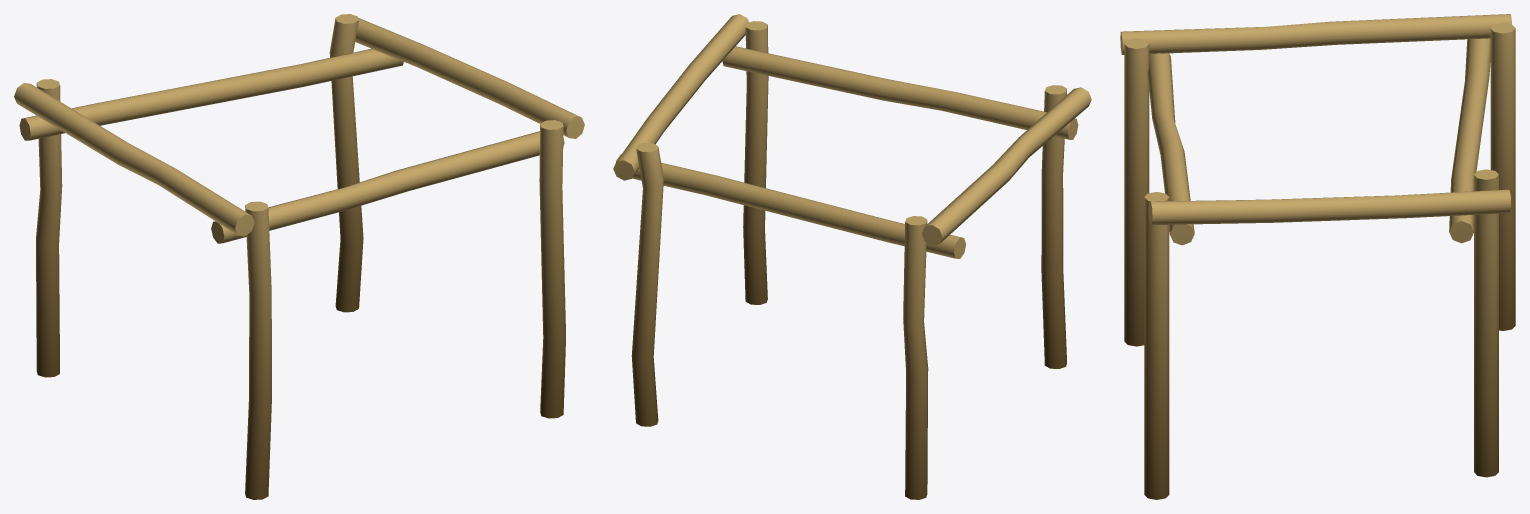
3 views of the same model, side by side, from view 1: azimuth 30°, elevation 25°; view 2: azimuth 150°, elevation 25°; view 3: azimuth 270°, elevation 25° (orthographic). The views are drawn at different scales.
Visible parts, largest first — view 1: Cylinder.007; view 2: Cylinder.007; view 3: Cylinder.007.
Boxes of the visible parts, x1,y1,x2,y2 form: Cylinder.007: (14,14,584,499); Cylinder.007: (613,14,1091,499); Cylinder.007: (1120,14,1515,499).
Size of the model in its own units: 4.12 by 2.88 by 3.4.
